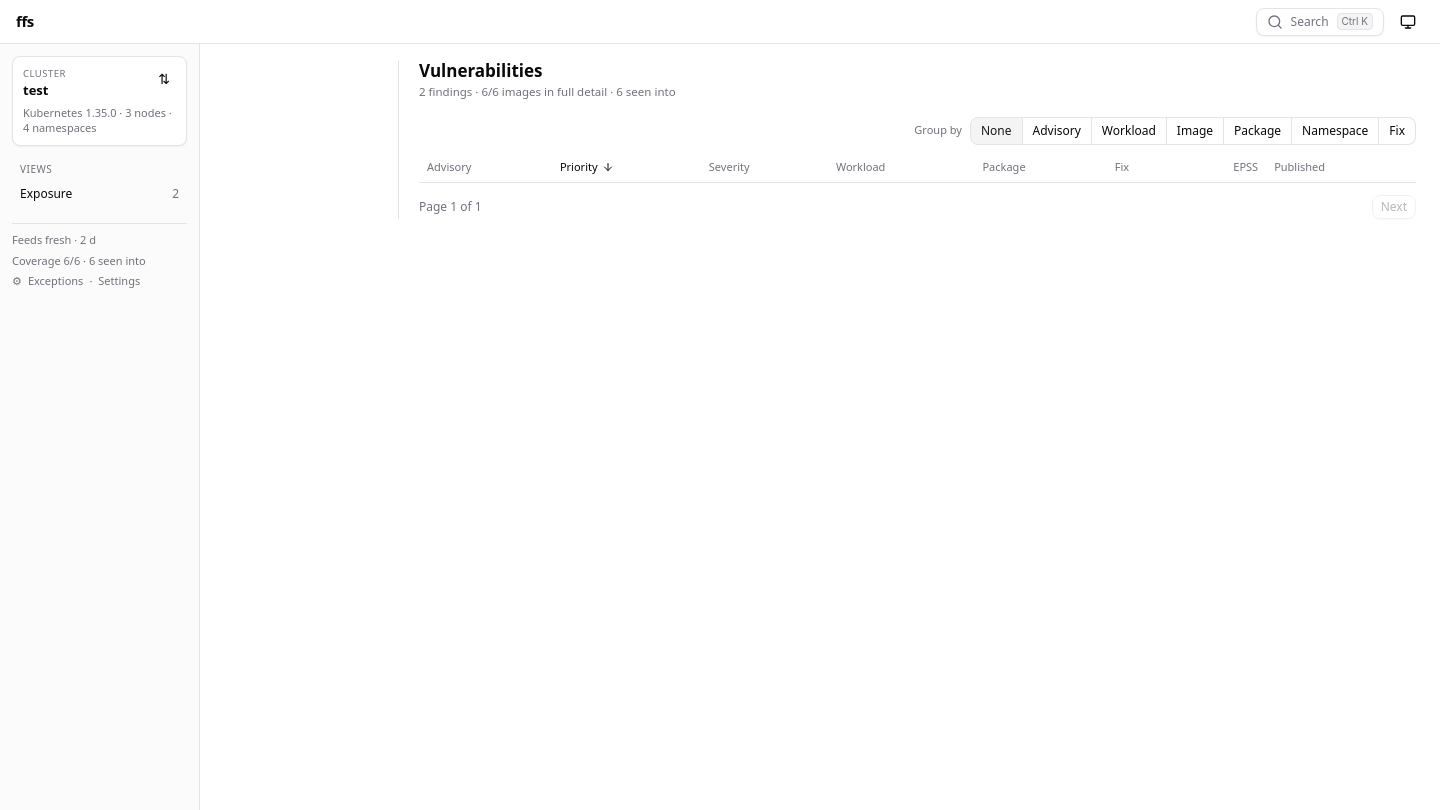
the grouped view shows findings and distinct counts
The image size is (1440, 810).
Click the radio button labelled "Advisory" at (1057, 130), box [1022,116,1092,144]
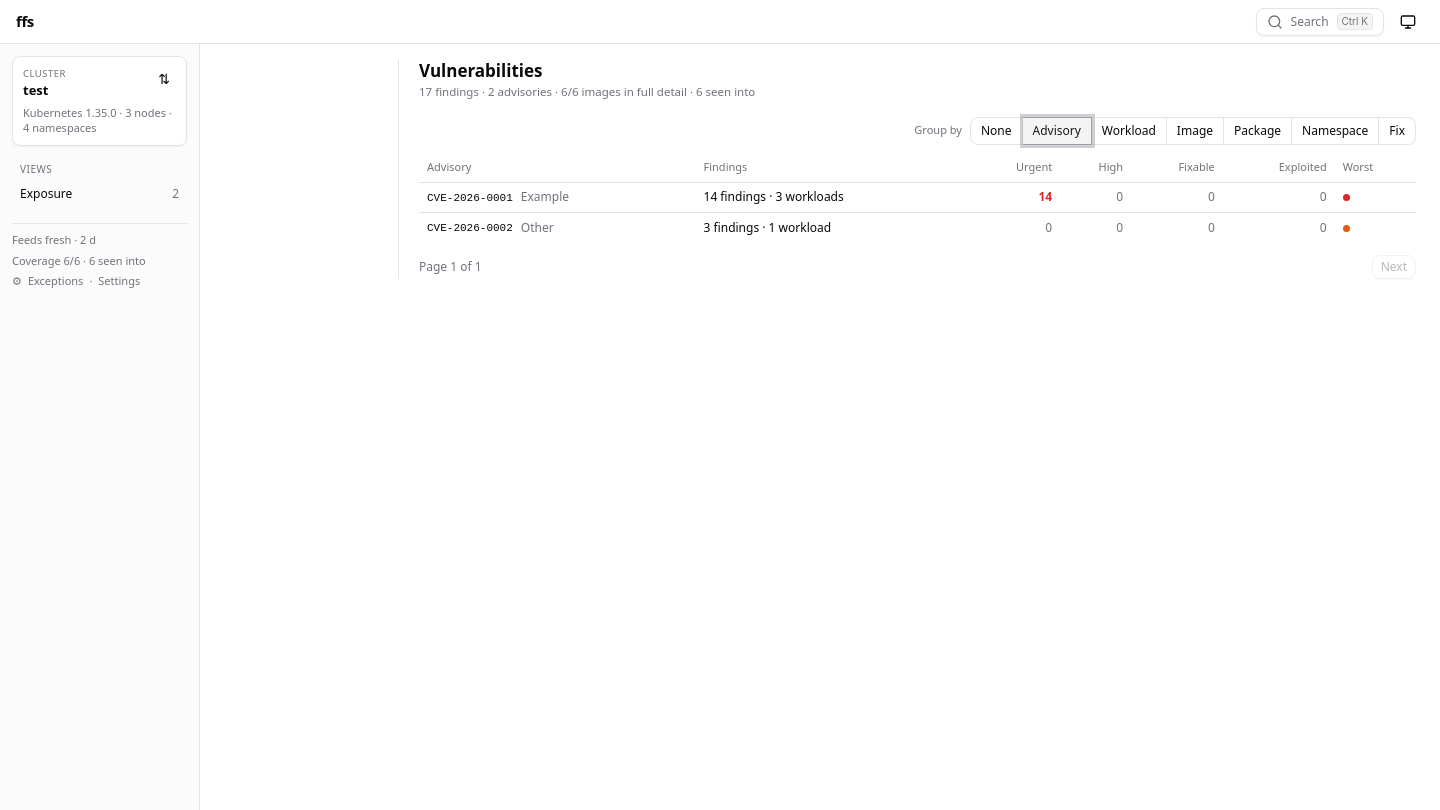
Result: the text "14 findings · 3 workloads" is shown at [696,182,969,212]
Result: the text "17 findings · 2 advisories" is shown at [419,84,552,99]
